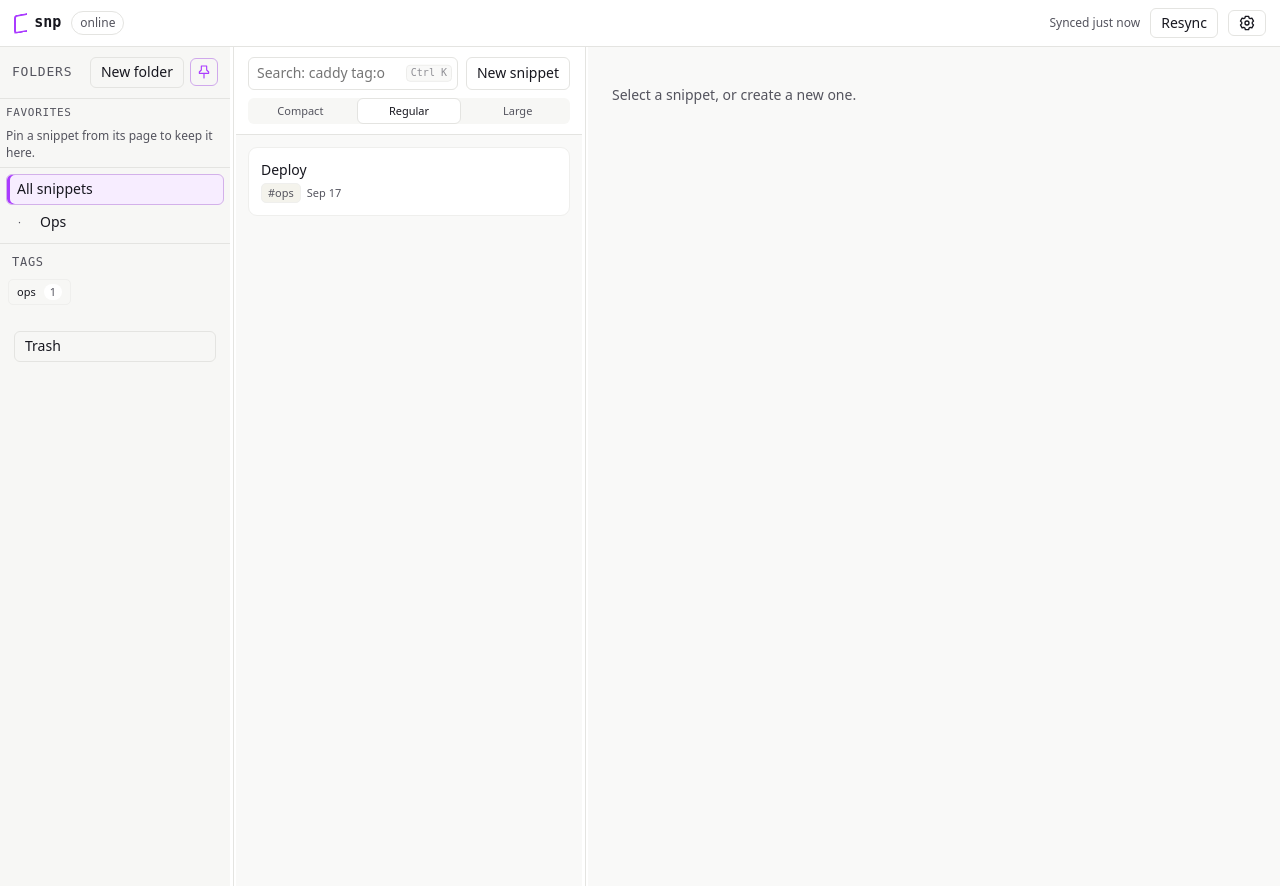
it: save lifecycle › marks mutation network failures offline and allows an explicit sync retry
Click the text "Deploy": (284, 170) left=261, top=160, right=307, bottom=180
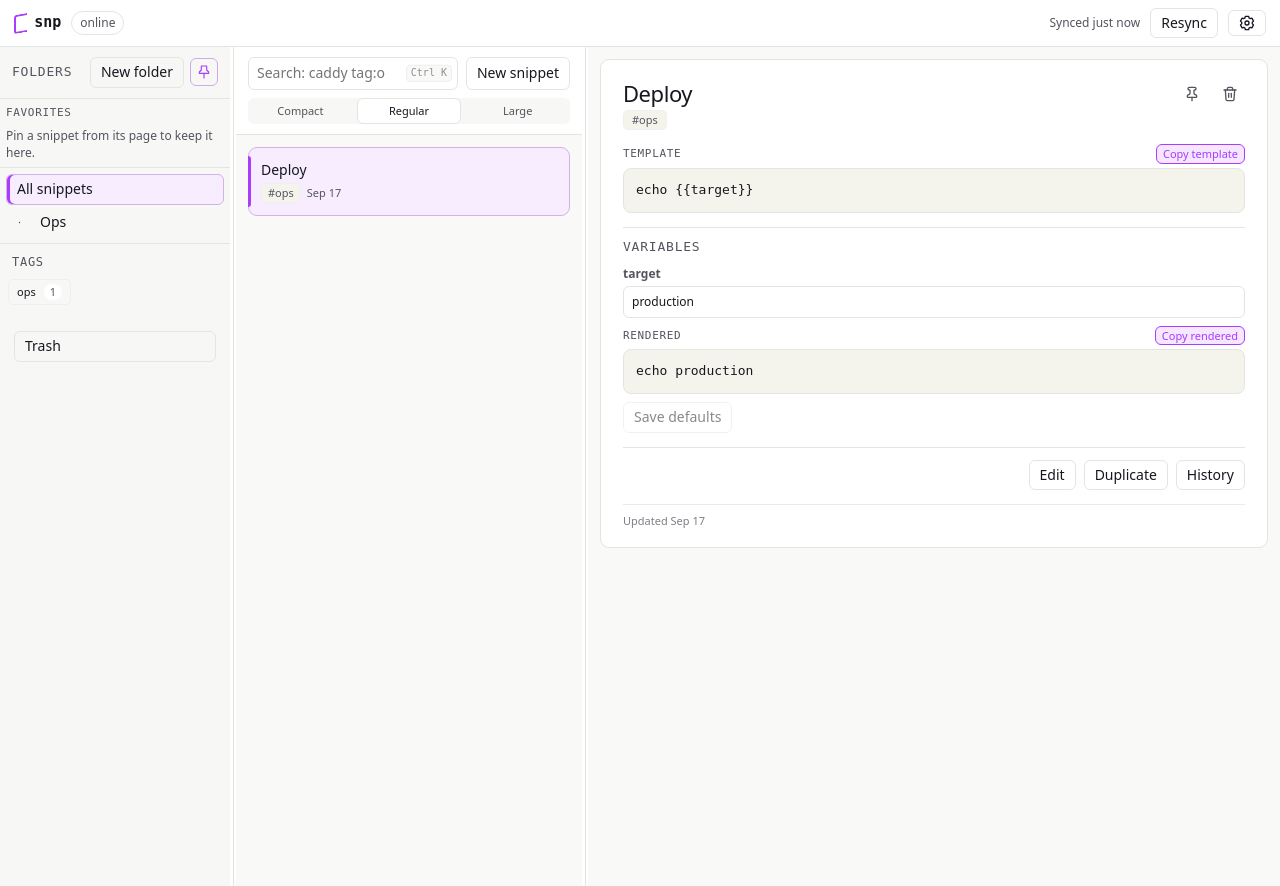
Click the button "Edit": (1052, 475) left=1029, top=460, right=1076, bottom=490
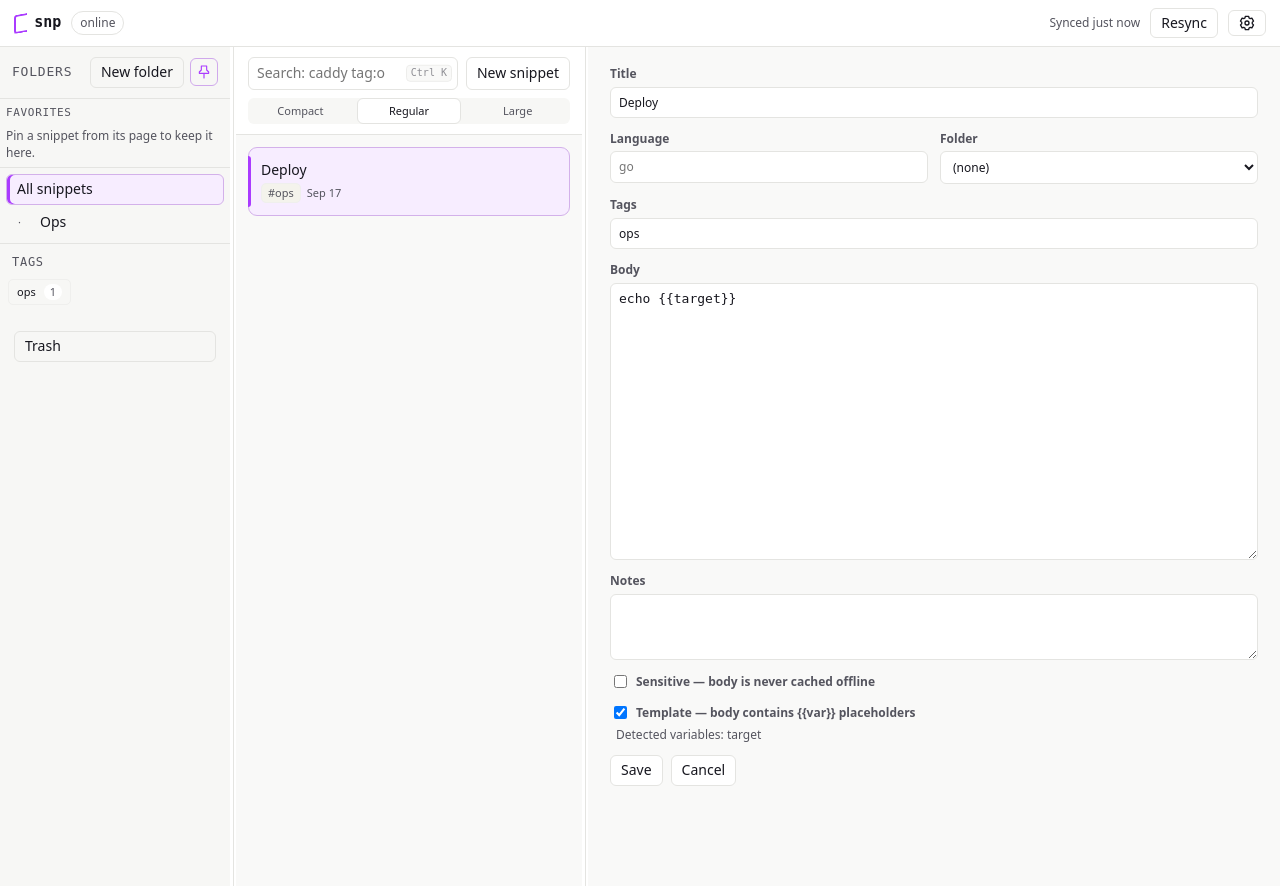
Expected: the text box labelled "Body" is shown
Replace the text in the text box labelled "Body" with "draft": (934, 422) left=610, top=283, right=1258, bottom=560
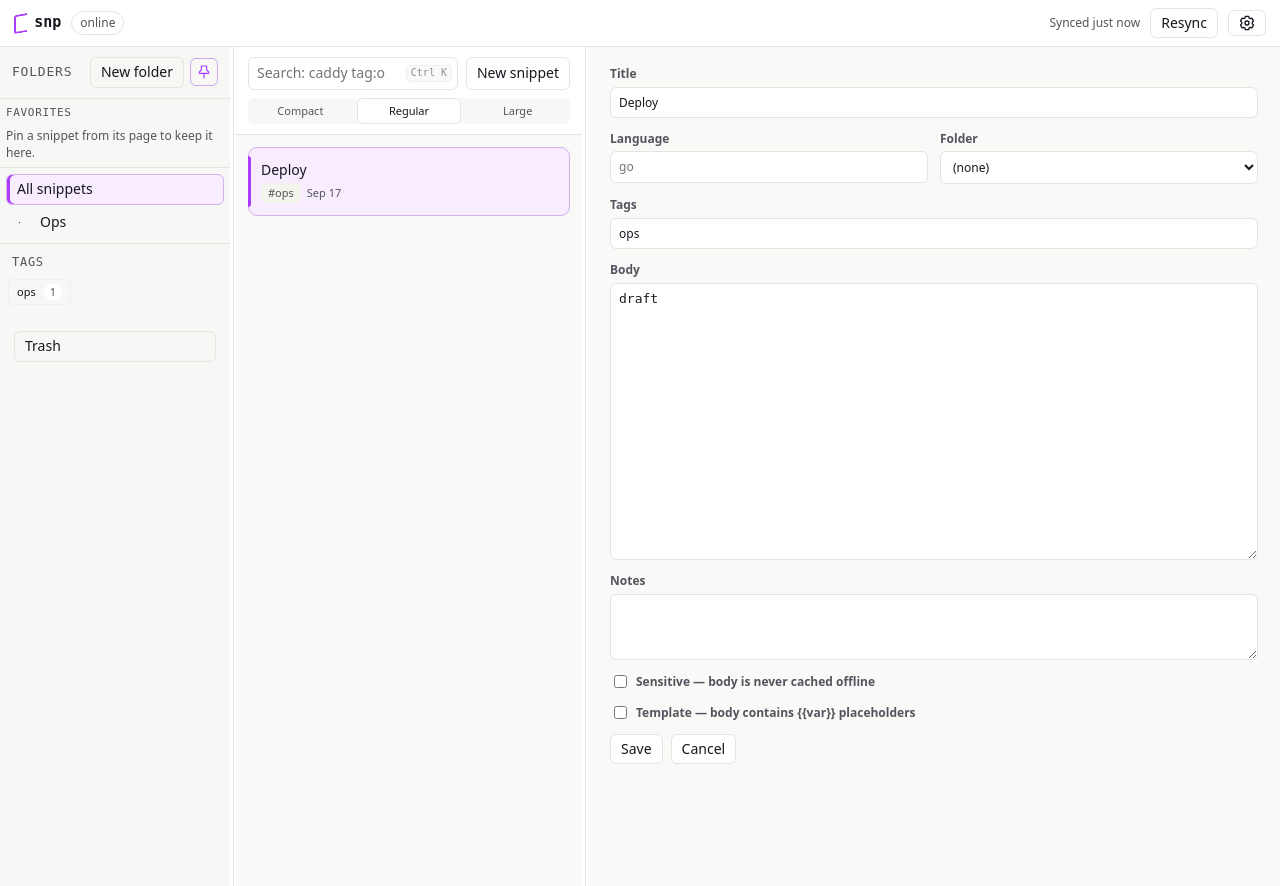
Click the button "Save": (636, 749) left=610, top=734, right=663, bottom=764
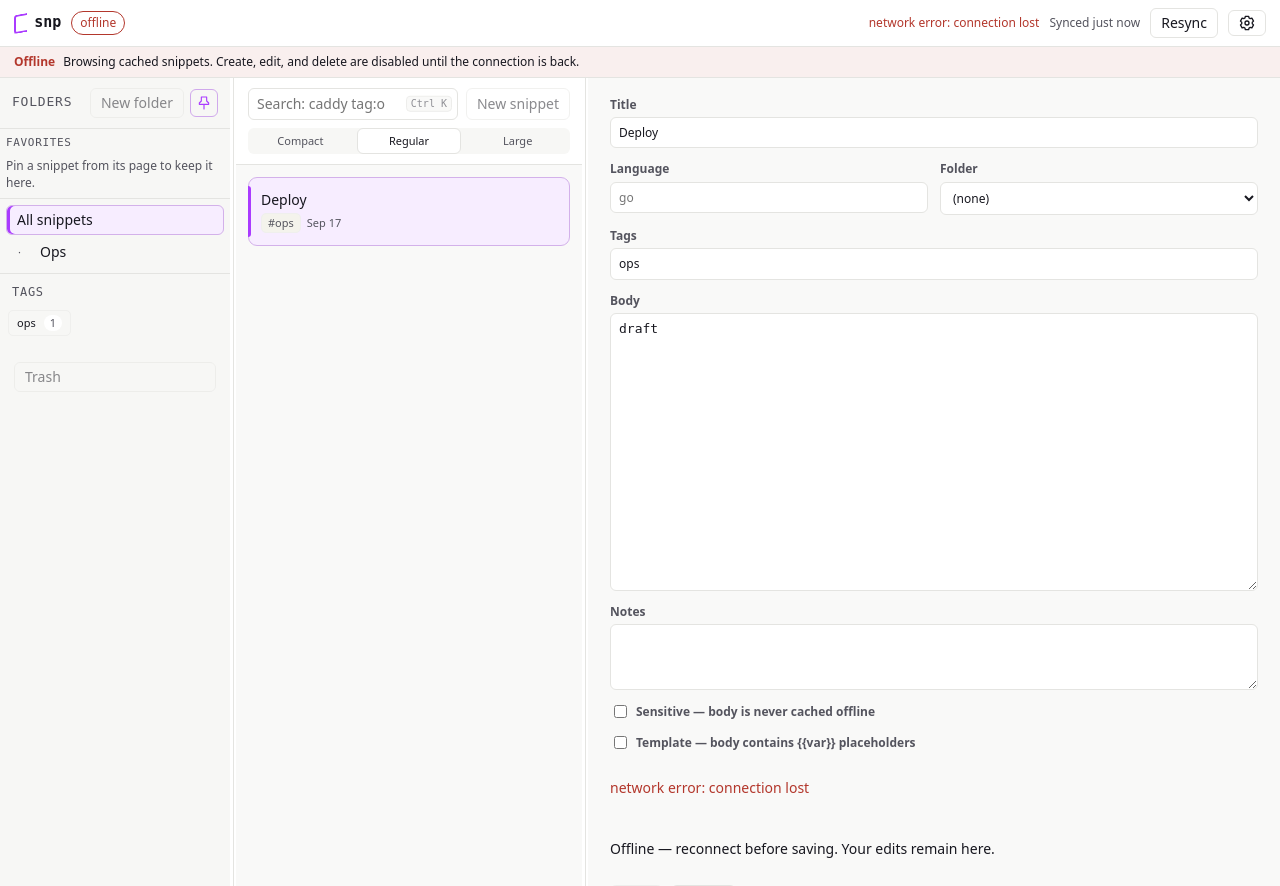
Expected: the text "offline" is shown, left=71, top=12, right=125, bottom=35
Click the button "Resync": (1184, 23) left=1150, top=8, right=1218, bottom=38
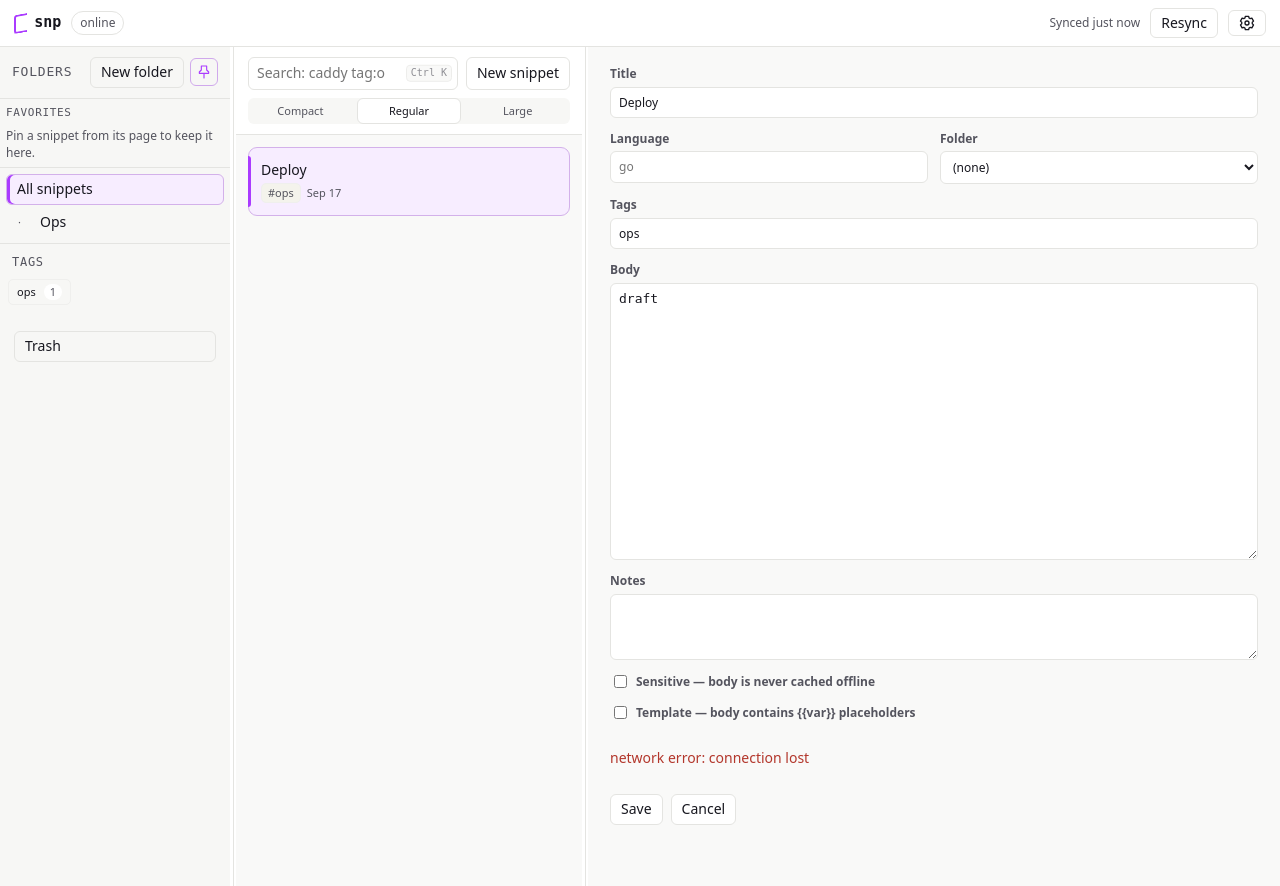
Expected: the button "Save" is enabled, left=610, top=794, right=663, bottom=825
